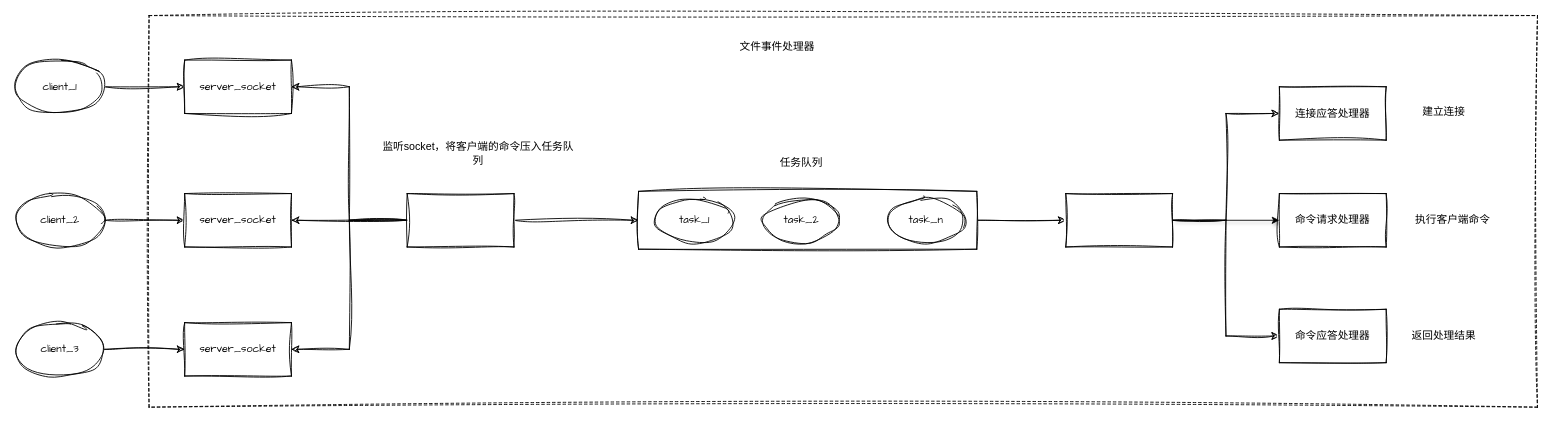
This 1553x423 diagram has some shape labels left out. The shapes that lost their labels are listed below. From the top down, each one's centre as x and y in pixels, then its label:
At [460,220]: "IO多路复用程序".
At [1119,220]: "文件事件分派器".
